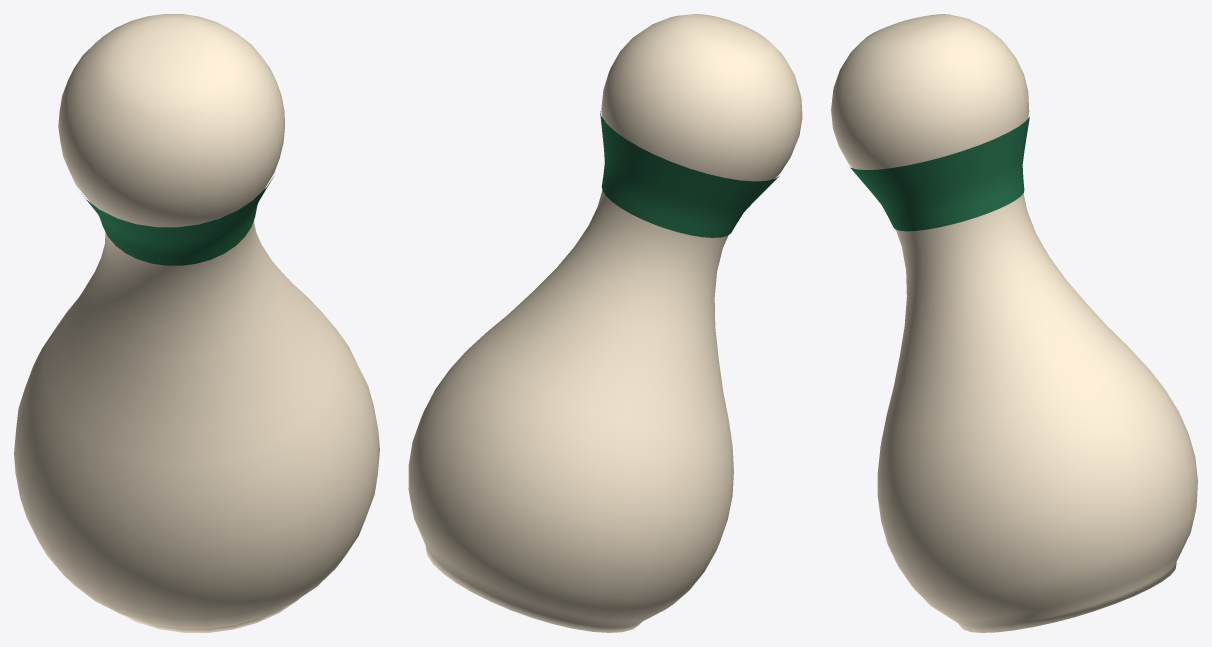
The model's file is pingreen.glb.
3 views of the same model, side by side, from view 1: azimuth 30°, elevation 25°; view 2: azimuth 150°, elevation 25°; view 3: azimuth 270°, elevation 25° (orthographic). The views are drawn at different scales.
Parts seen in each view (by area): view 1: pingreen; view 2: pingreen; view 3: pingreen.
Boxes of the visible parts, left/top/right/bottom form: pingreen: left=14, top=14, right=379, bottom=632; pingreen: left=408, top=14, right=802, bottom=632; pingreen: left=831, top=14, right=1197, bottom=632.
Size of the model in its own units: 0.5392 by 0.9624 by 0.571.
